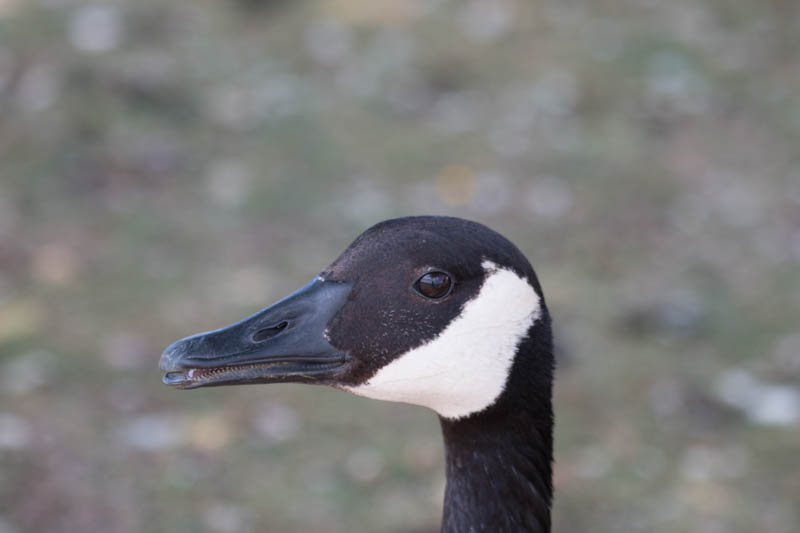goose-head: (155, 214, 553, 422)
